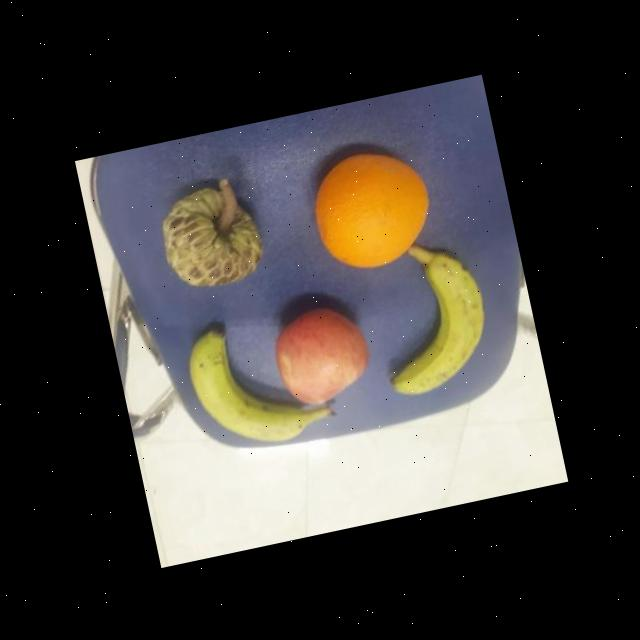Sakya fruit: (153, 179, 269, 296)
apple: (266, 298, 376, 410)
banana: (180, 304, 336, 456), (368, 247, 498, 399)
orange: (303, 141, 439, 277)
